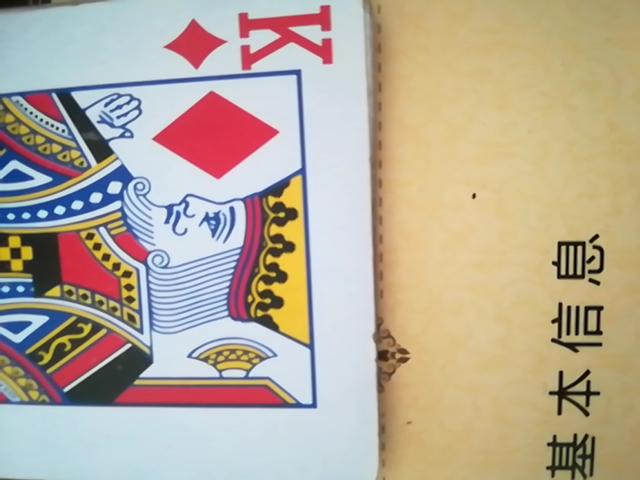fk k: (0, 0, 378, 480)
